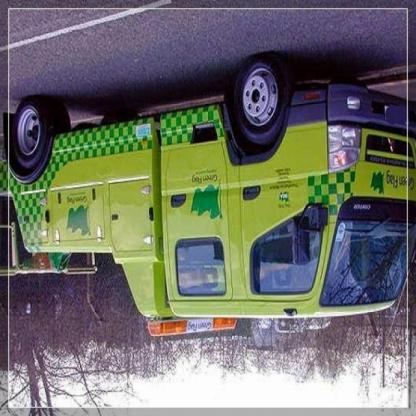truck: (1, 52, 405, 338)
